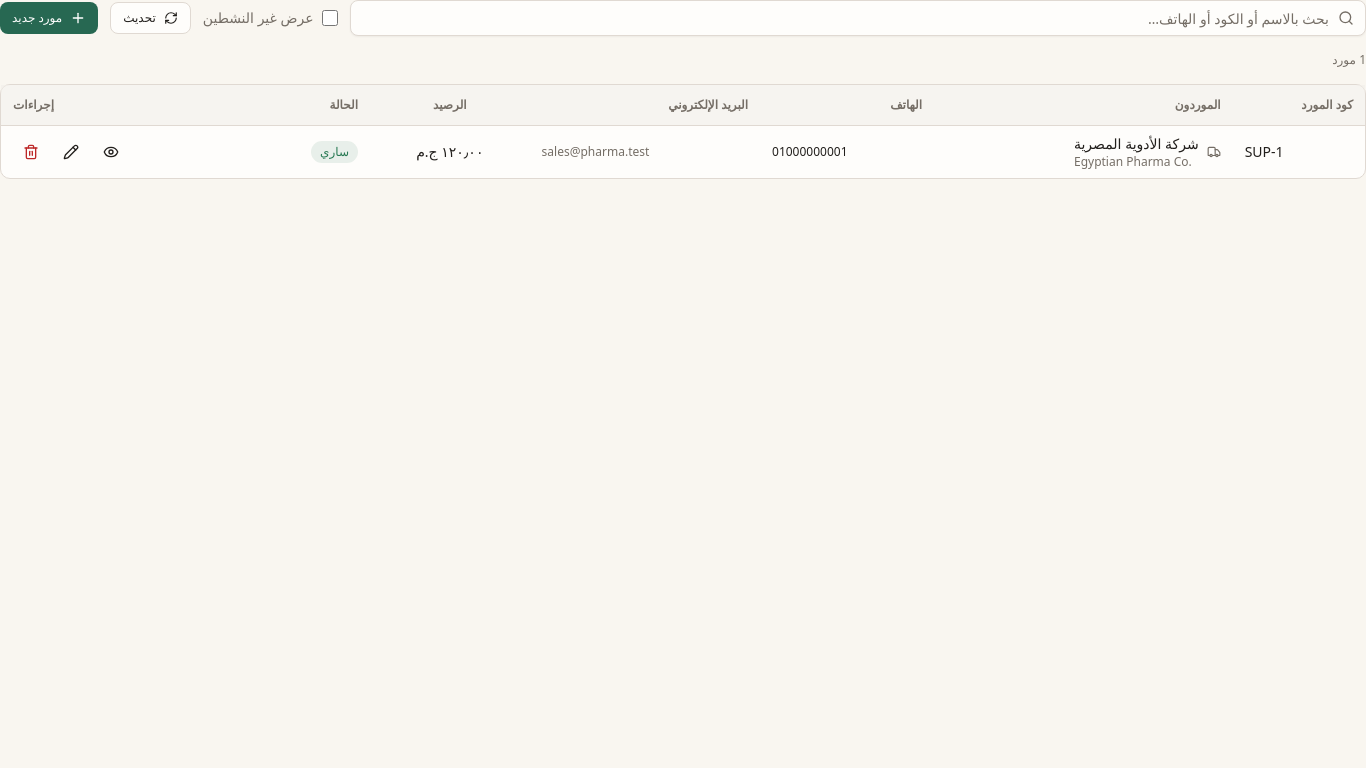
Test: SuppliersPage › updates a supplier from the edit dialog, clearing blank fields
This screenshot has width=1366, height=768.
Expected: the text "شركة الأدوية المصرية" is shown, [1074,134,1199,154]
Click the button named "تعديل": (71, 152) [53,134,89,170]
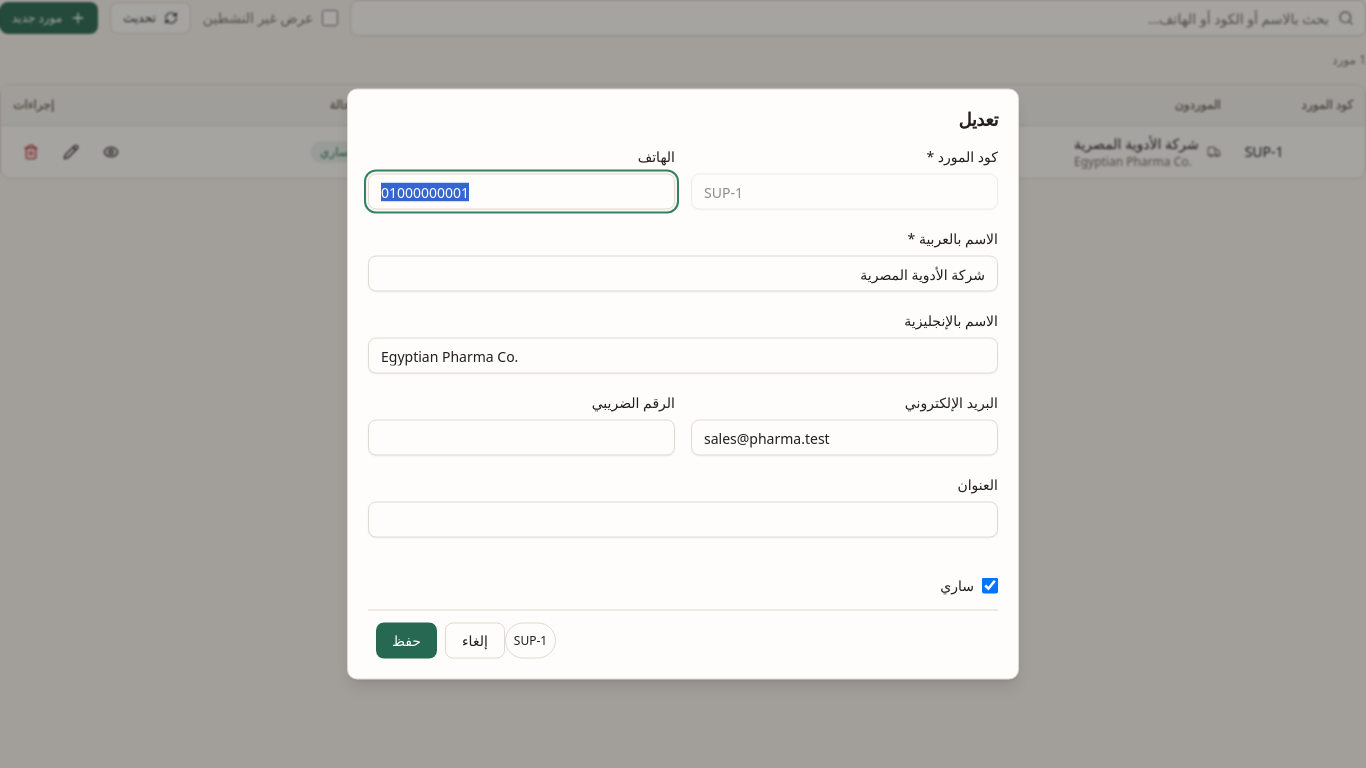
Replace the text in the field labelled "الاسم بالعربية *" with "شركة دواء جديدة": (683, 274) [368,256,998,292]
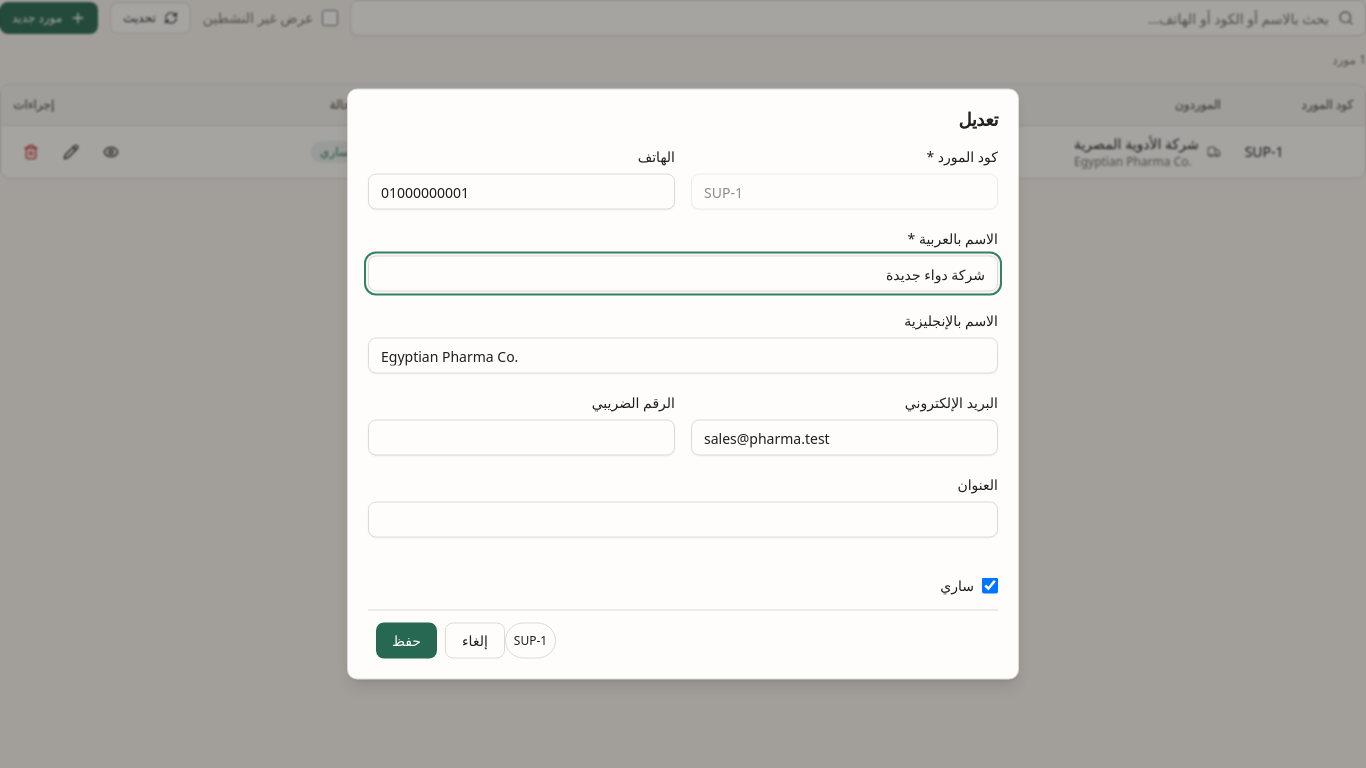
Replace the text in the field labelled "الهاتف" with "01112223333": (522, 192) [368,174,675,210]
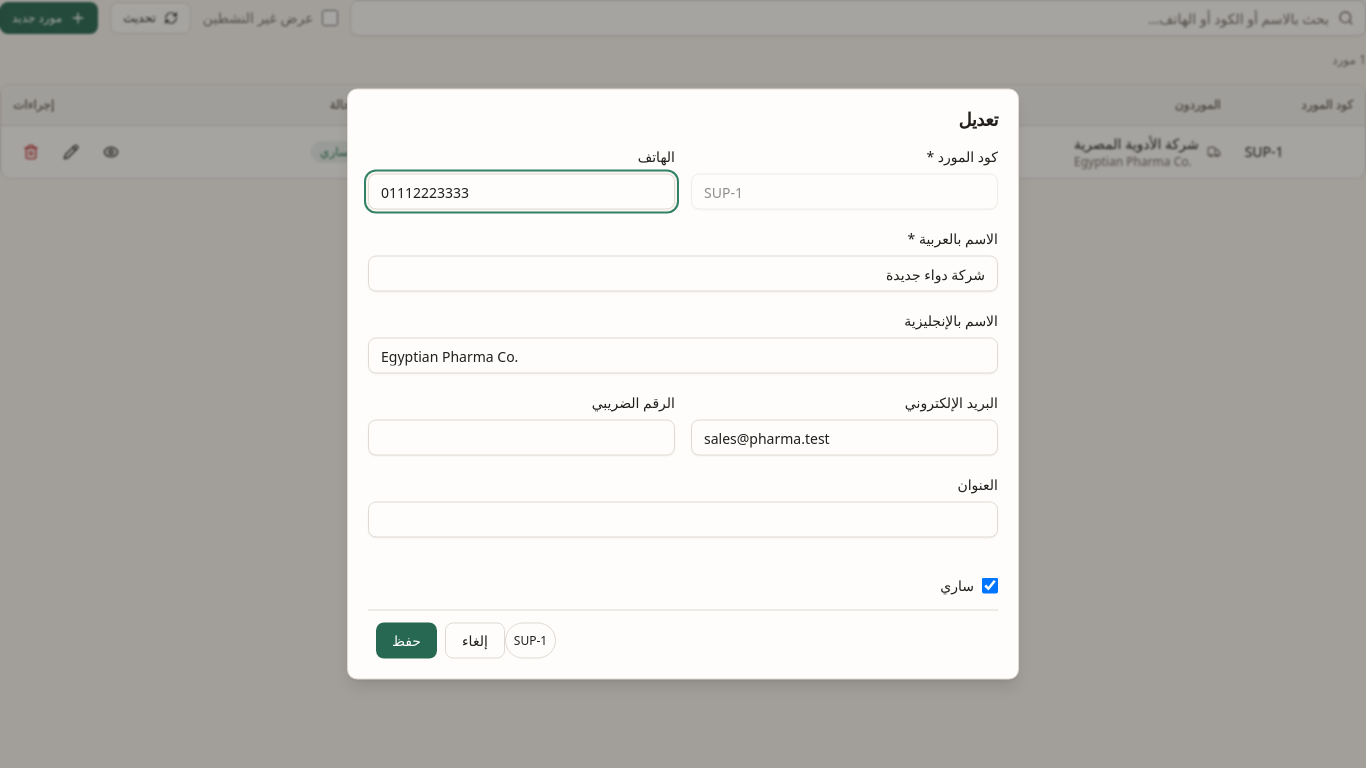
Click the button "حفظ": (406, 640) [376,622,437,658]
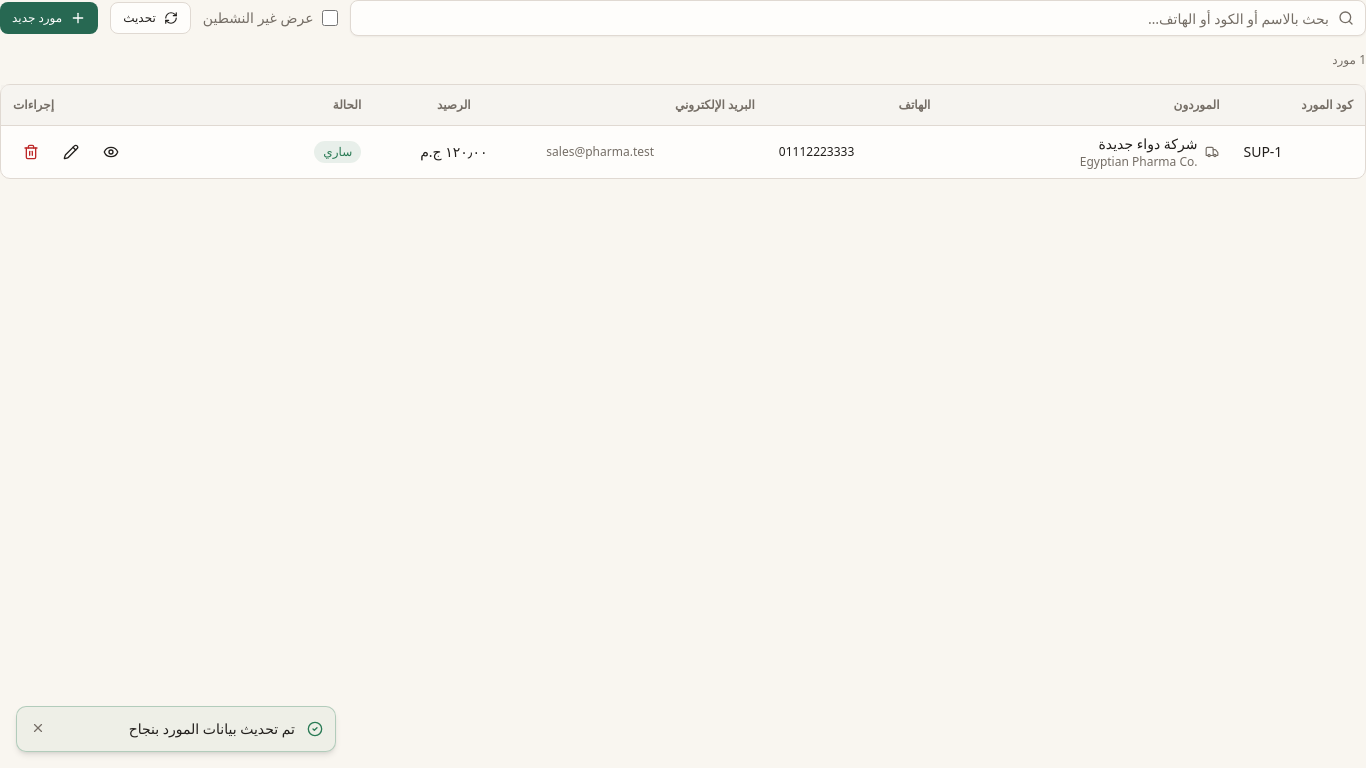
Expected: the text "تم تحديث بيانات المورد بنجاح" is shown, [129,719,295,738]
